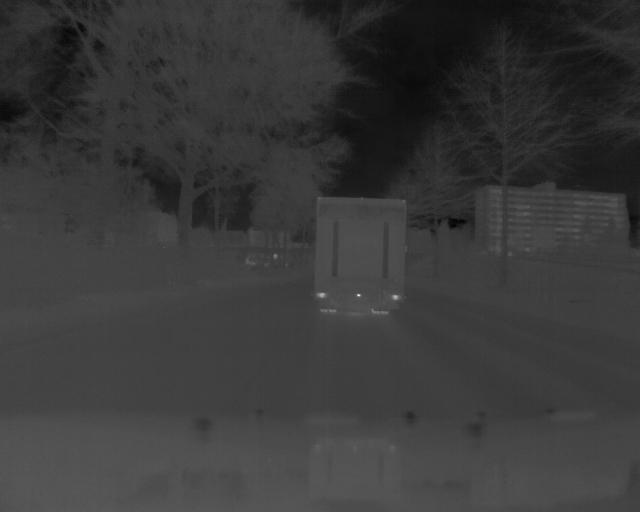person: (314, 194, 407, 318)
